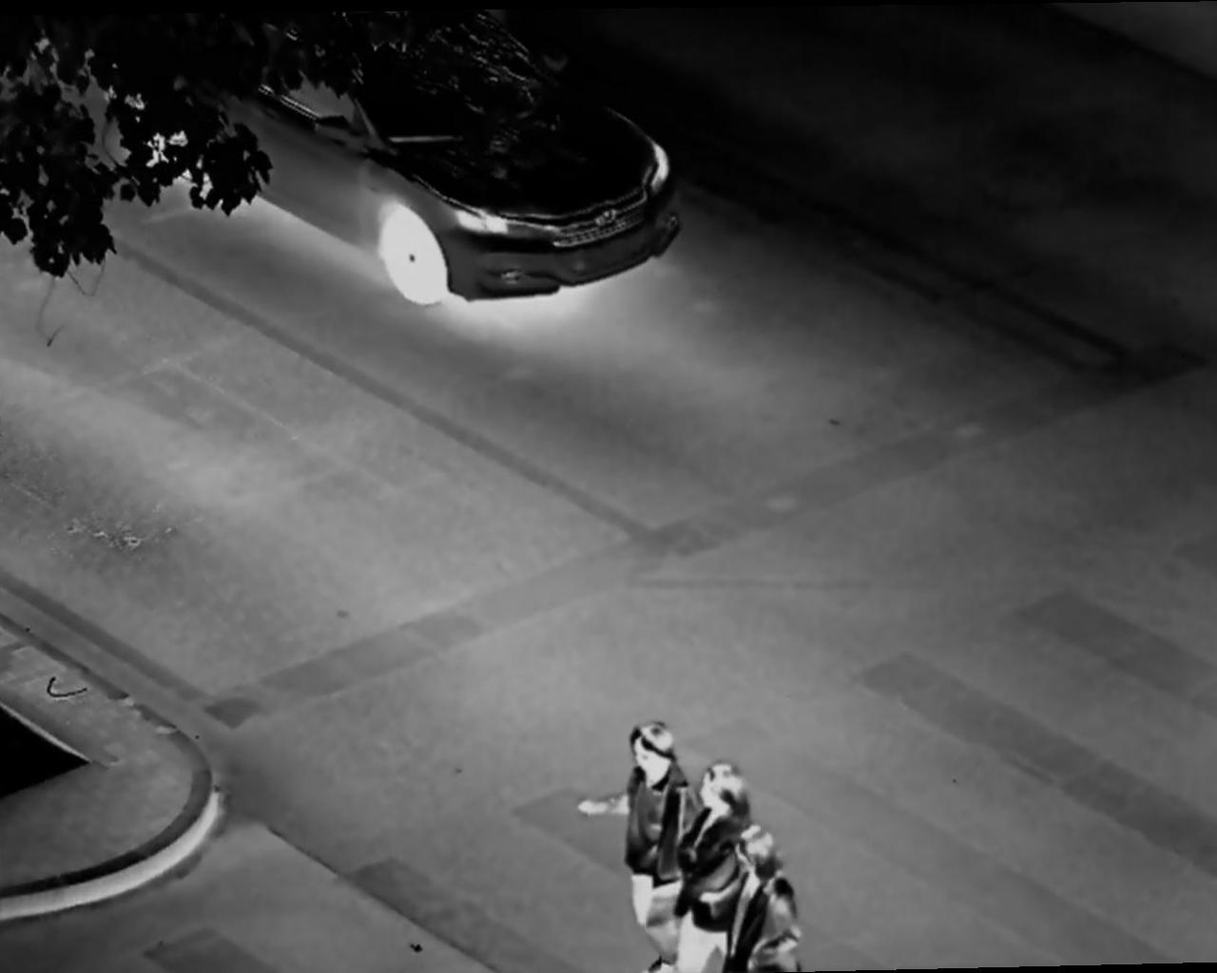person: (588, 723, 691, 958), (723, 823, 802, 973), (694, 758, 745, 973)
